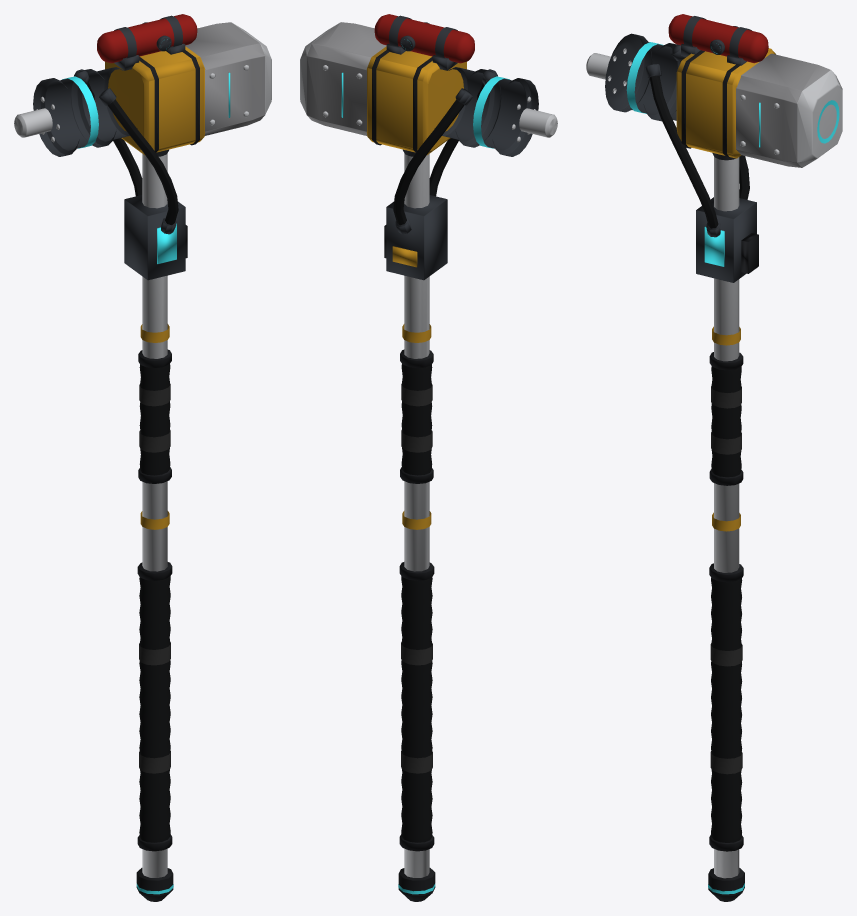
File: gear_neon_hammer.glb
The picture shows the model from 3 angles, left to right: view 1: azimuth 30°, elevation 25°; view 2: azimuth 150°, elevation 25°; view 3: azimuth 330°, elevation 25°; orthographic projection.
Parts seen in each view (by area): view 1: gear_neon_hammer; view 2: gear_neon_hammer; view 3: gear_neon_hammer.
Boxes of the visible parts, x1=… form: gear_neon_hammer: x1=14, y1=14, x2=271, y2=901; gear_neon_hammer: x1=300, y1=14, x2=557, y2=901; gear_neon_hammer: x1=586, y1=14, x2=842, y2=901.
Size of the model in its own units: 0.3882 by 1.36 by 0.1385.
